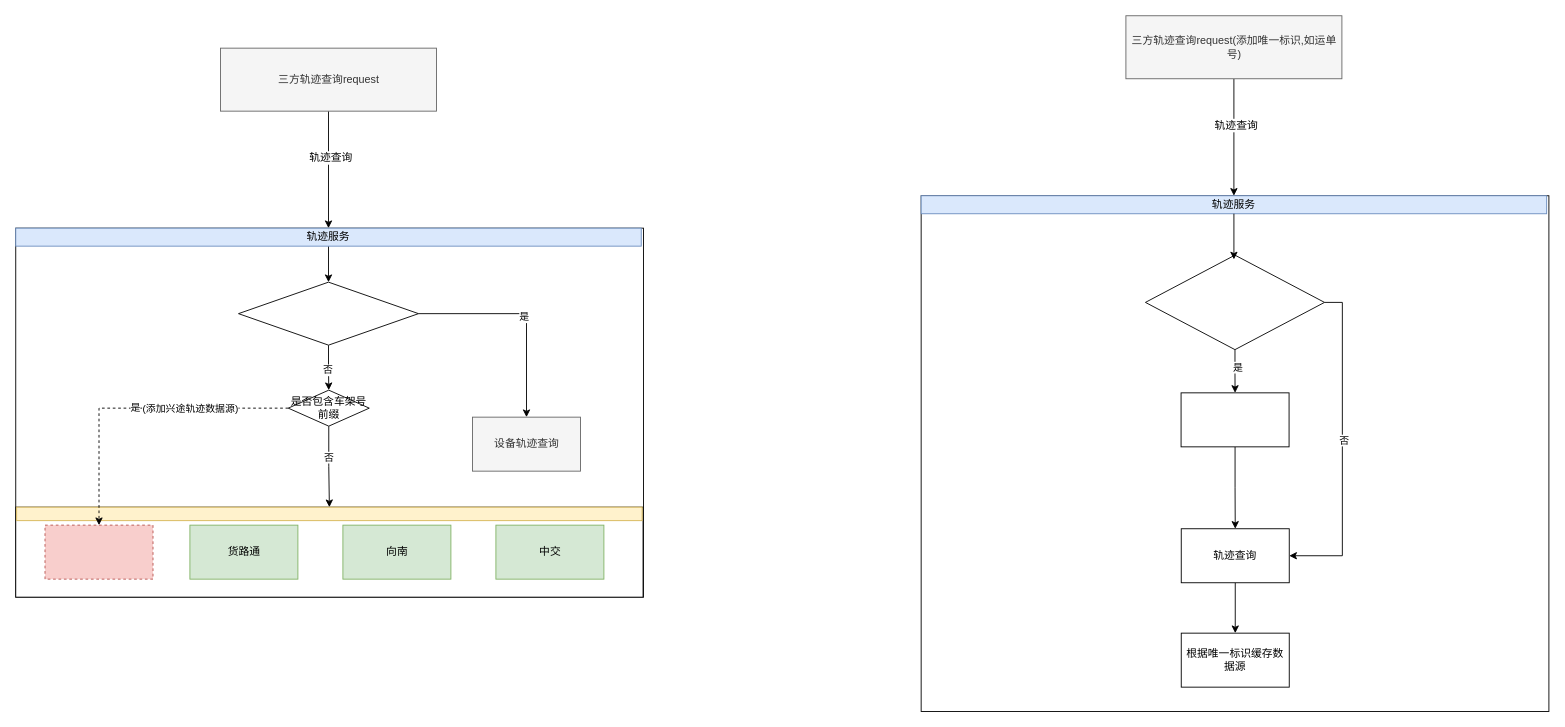
Some shapes in this 1565 by 727 pixel diagram are drawn without their labels. Here are the shapes that lost their labels. From the top down, the box of each, then its label:
(238, 281, 418, 345): 校验是否设备轨迹
(1145, 254, 1325, 350): 根据唯一标识查询可查询数据源缓存
(1180, 392, 1289, 447): 替换查询数据源,仅保留第一次查询数据的数据源
(16, 506, 642, 521): 顺序查询(响应数据即返回,,不在查询其他数据源)
(44, 524, 153, 579): 兴途
